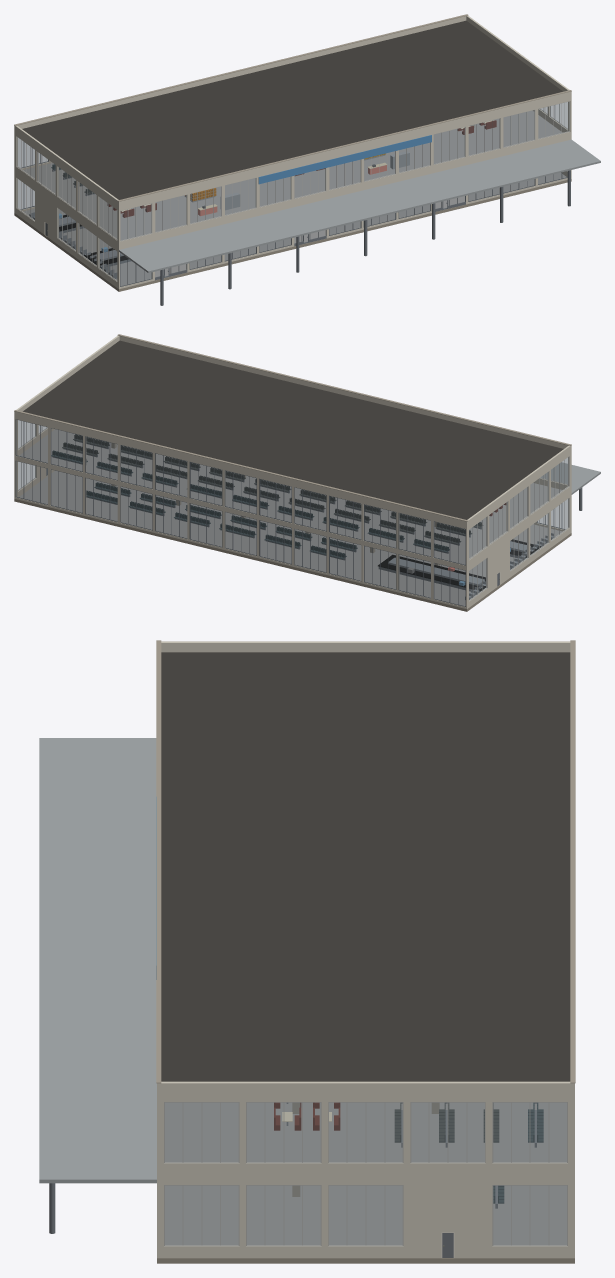
The model's file is ferry_terminal.glb.
The picture shows the model from 3 angles, top to bottom: view 1: azimuth 30°, elevation 25°; view 2: azimuth 150°, elevation 25°; view 3: azimuth 270°, elevation 25°; orthographic projection. The views are drawn at different scales.
Visible parts, largest first — view 1: LOD0, FURN; view 2: LOD0, FURN; view 3: LOD0, FURN.
Boxes of the visible parts, box(x1,y1,x2,y2) form: LOD0: box(14, 14, 600, 305); FURN: box(29, 120, 496, 278); LOD0: box(14, 334, 600, 611); FURN: box(51, 434, 553, 599); LOD0: box(39, 640, 575, 1263); FURN: box(274, 1102, 543, 1208).
Size of what is drawn, in the model's own units: 80.1 by 15.33 by 41.05.
